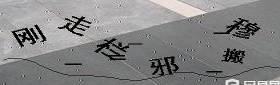chinese: (94, 35, 126, 64), (225, 17, 262, 42), (63, 14, 93, 42), (11, 26, 49, 48), (221, 43, 251, 69), (148, 55, 180, 78)
